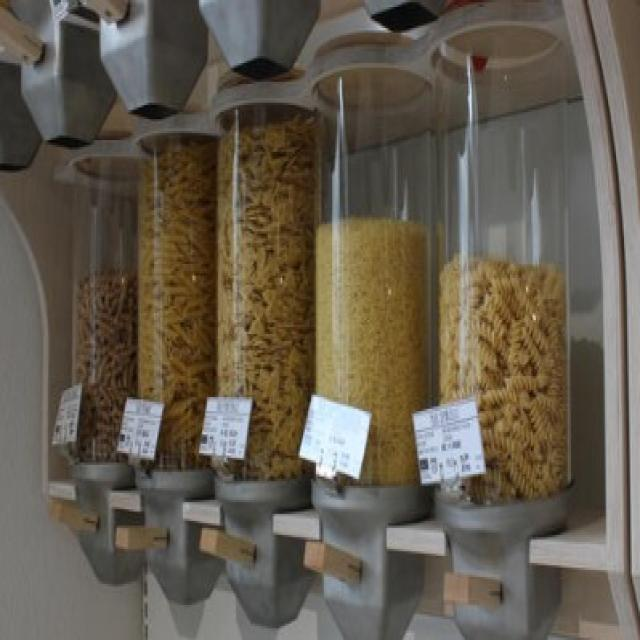electronic: (47, 1, 571, 514)
